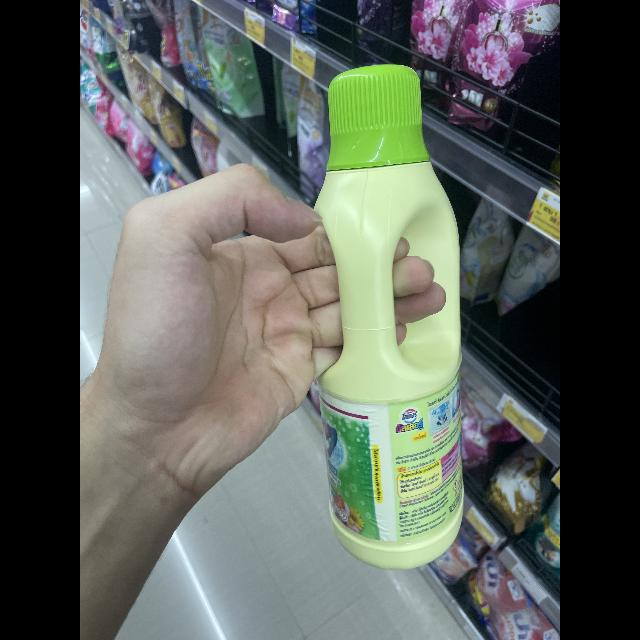chemical_plastic_bottle: (293, 54, 485, 580)
